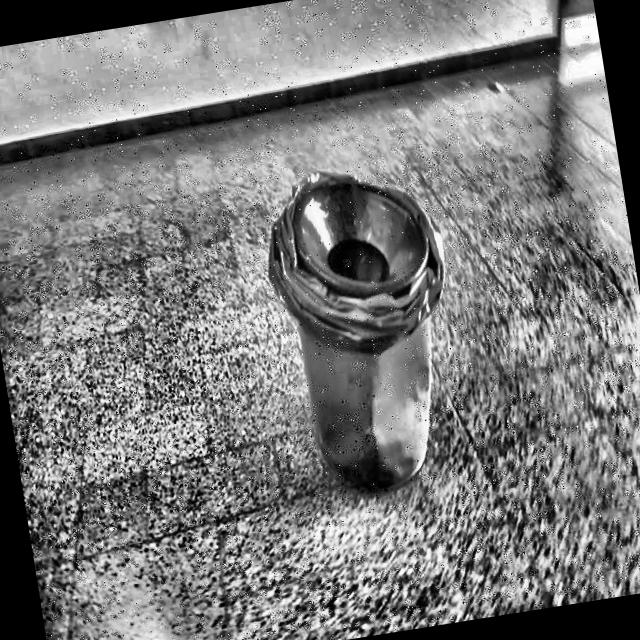Dustbin: (231, 123, 496, 519)
